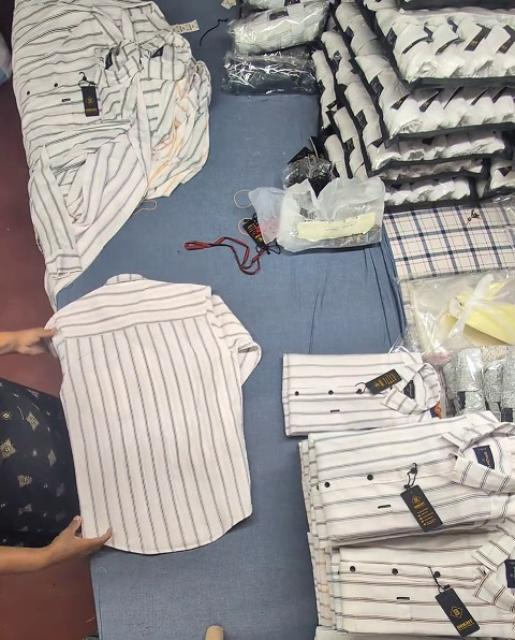new-garment: (48, 274, 260, 551)
